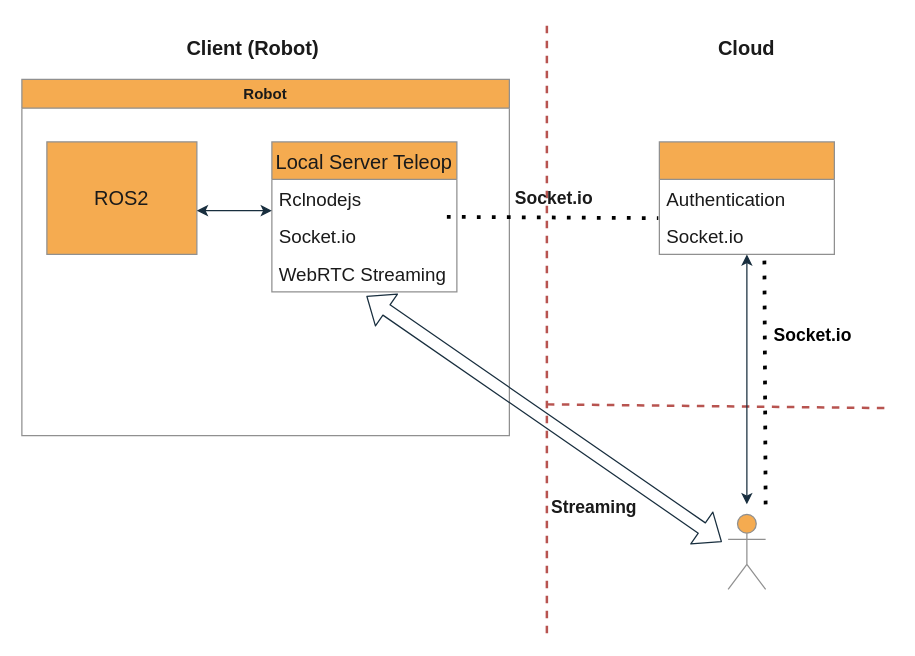
This 915x656 diagram has some shape labels left out. Each missing label, with the box of its shape:
Client (User): (727, 513, 766, 589)
Server Teleop: (658, 141, 834, 254)
